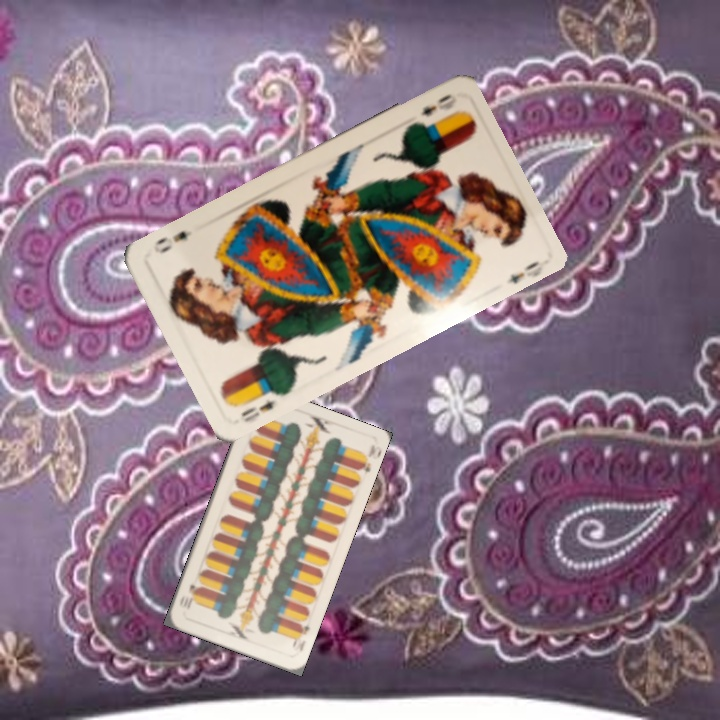E10: (288, 618, 313, 654)
EO: (229, 385, 286, 425), (417, 90, 459, 119)
